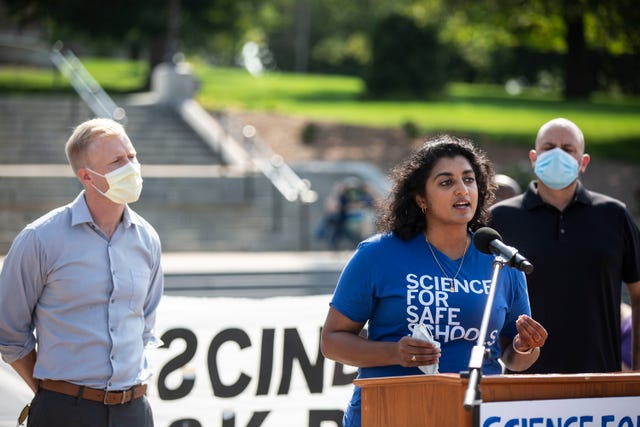with_mask: (81, 149, 143, 204), (537, 136, 581, 182)
without_mask: (430, 169, 478, 222)
